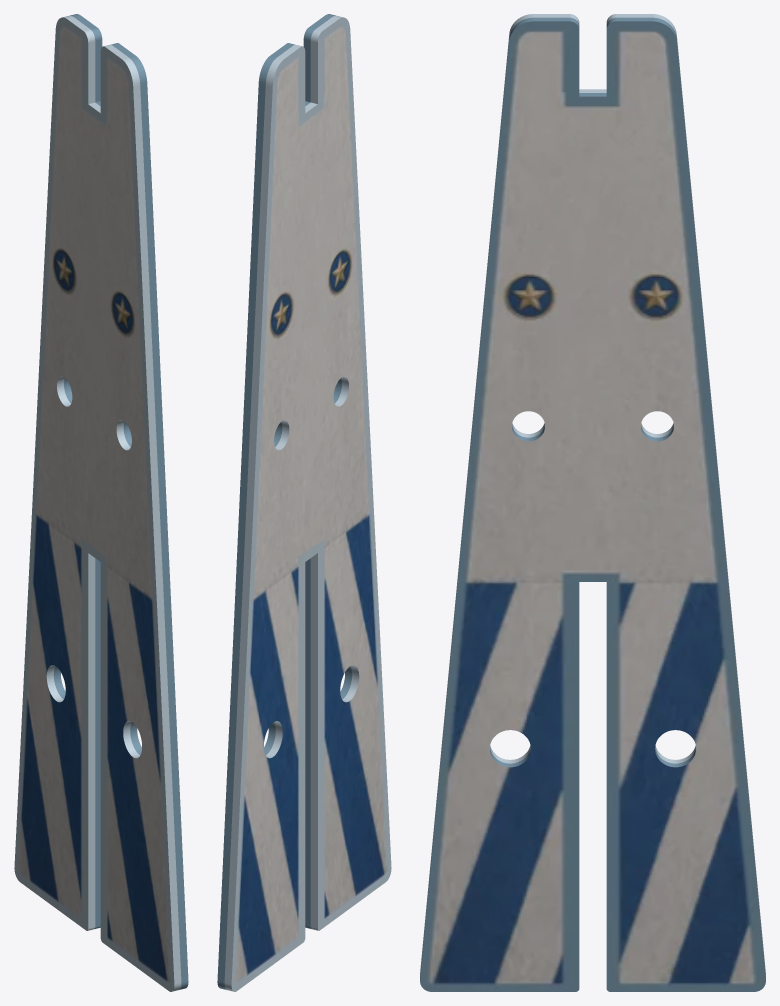
File: connector-stabilizer-02.glb
3 views of the same model, side by side, from view 1: azimuth 30°, elevation 25°; view 2: azimuth 150°, elevation 25°; view 3: azimuth 270°, elevation 25° (orthographic). The views are drawn at different scales.
Parts seen in each view (by area): view 1: connector-stabilizer-02; view 2: connector-stabilizer-02; view 3: connector-stabilizer-02.
Boxes of the visible parts, x1=… form: connector-stabilizer-02: x1=14, y1=14, x2=188, y2=991; connector-stabilizer-02: x1=217, y1=14, x2=391, y2=991; connector-stabilizer-02: x1=420, y1=14, x2=765, y2=991.
Bounding box in the file's own units: 18 × 1095 × 354.
4 materials, 2 textured.
